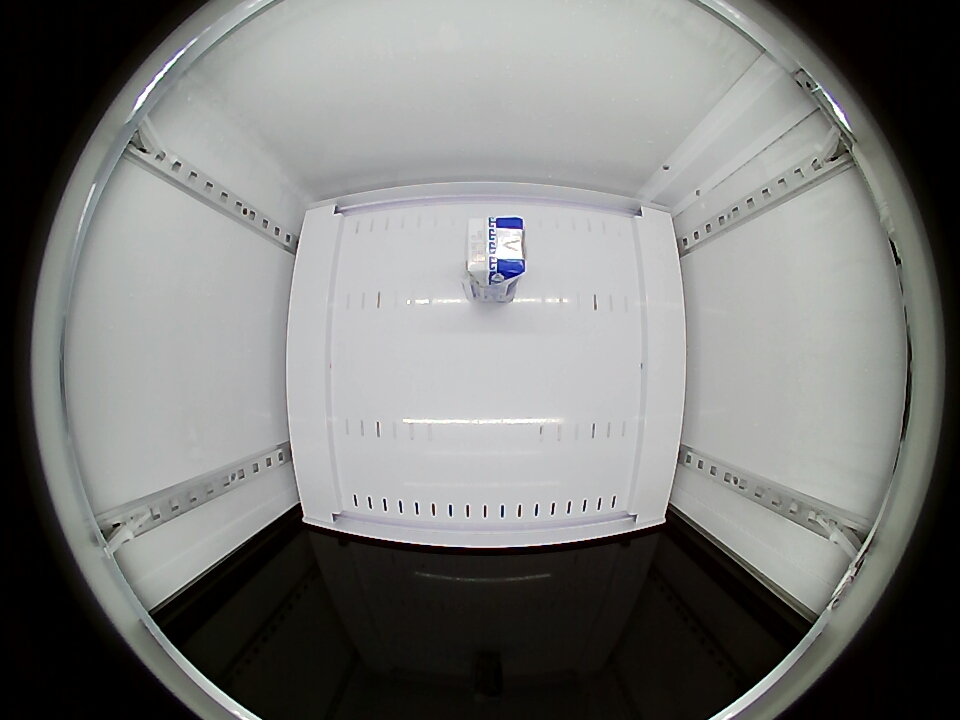anmuxi: (467, 217, 526, 285)
